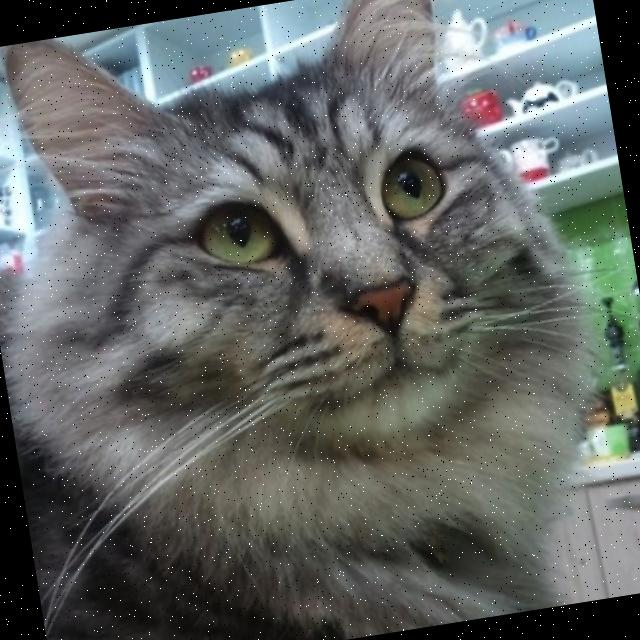Happy: (132, 94, 528, 467)
